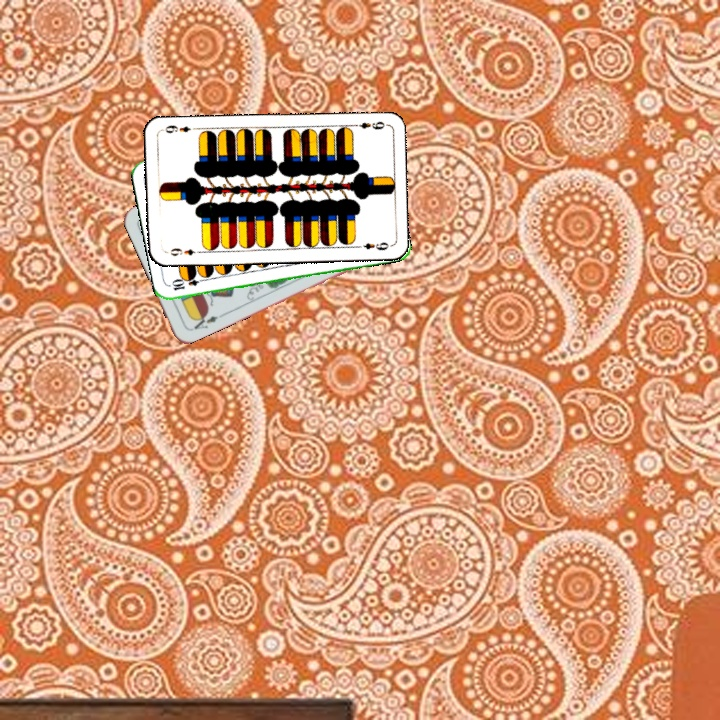E10: (168, 275, 209, 293)
E9: (348, 117, 387, 132), (167, 244, 203, 258)
EA: (187, 309, 220, 333)
